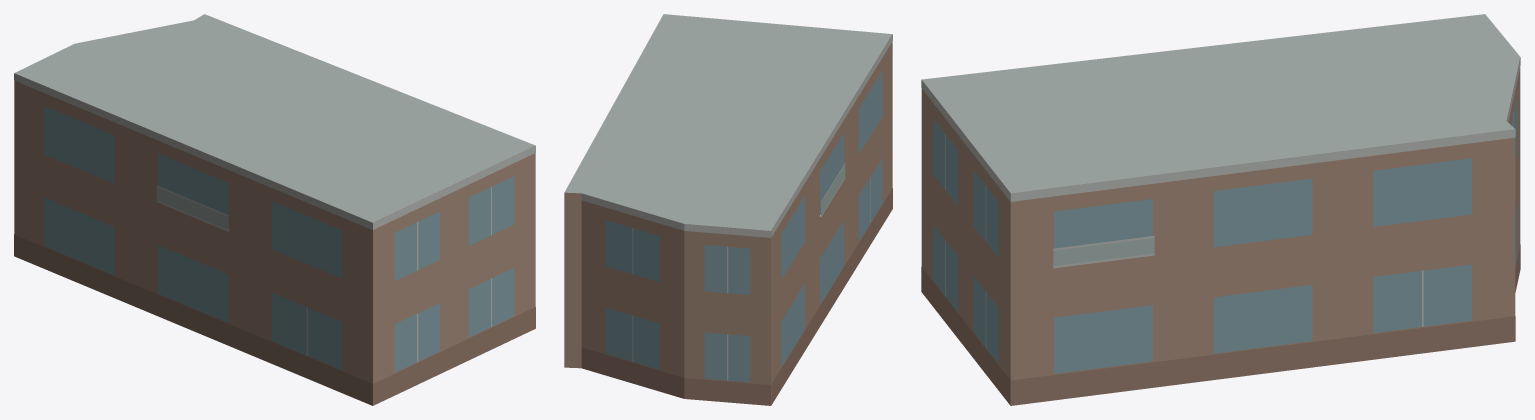
File: survey-upis-32912479.glb
3 views of the same model, side by side, from view 1: azimuth 30°, elevation 25°; view 2: azimuth 150°, elevation 25°; view 3: azimuth 270°, elevation 25° (orthographic). The views are drawn at different scales.
Visible parts, largest first — view 1: survey-upis-32912479.tmp; view 2: survey-upis-32912479.tmp; view 3: survey-upis-32912479.tmp.
Boxes of the visible parts, left/top/right/bottom form: survey-upis-32912479.tmp: left=14, top=14, right=535, bottom=405; survey-upis-32912479.tmp: left=564, top=14, right=892, bottom=405; survey-upis-32912479.tmp: left=921, top=14, right=1520, bottom=405.
Bounding box in the file's own units: 11.06 × 6.1 × 15.6.
